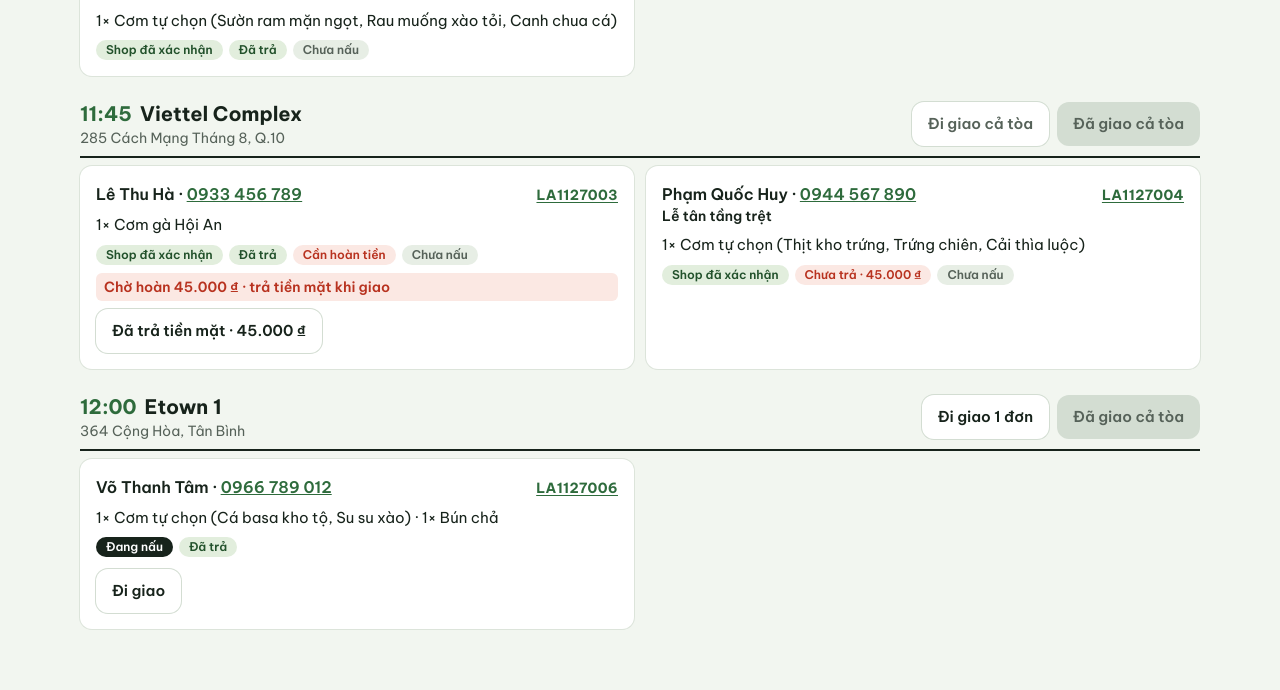
Test: refunds: shown, reminded, cash or transfer (CN-53, CN-54) › AC41, AC44, CN-53, CN-54: the delivery list shows the cash to give back; "Cash given back" records it
The width and height of the screenshot is (1280, 690).
(page scrolled)
Expected: the text "Chờ hoàn 45.000 ₫ · trả tiền mặt khi giao" is shown, x1=96 y1=273 x2=618 y2=301
Click the button "Đã trả tiền mặt · 45.000 ₫".
click(209, 331)  # box x1=96 y1=309 x2=322 y2=353
(page scrolled)
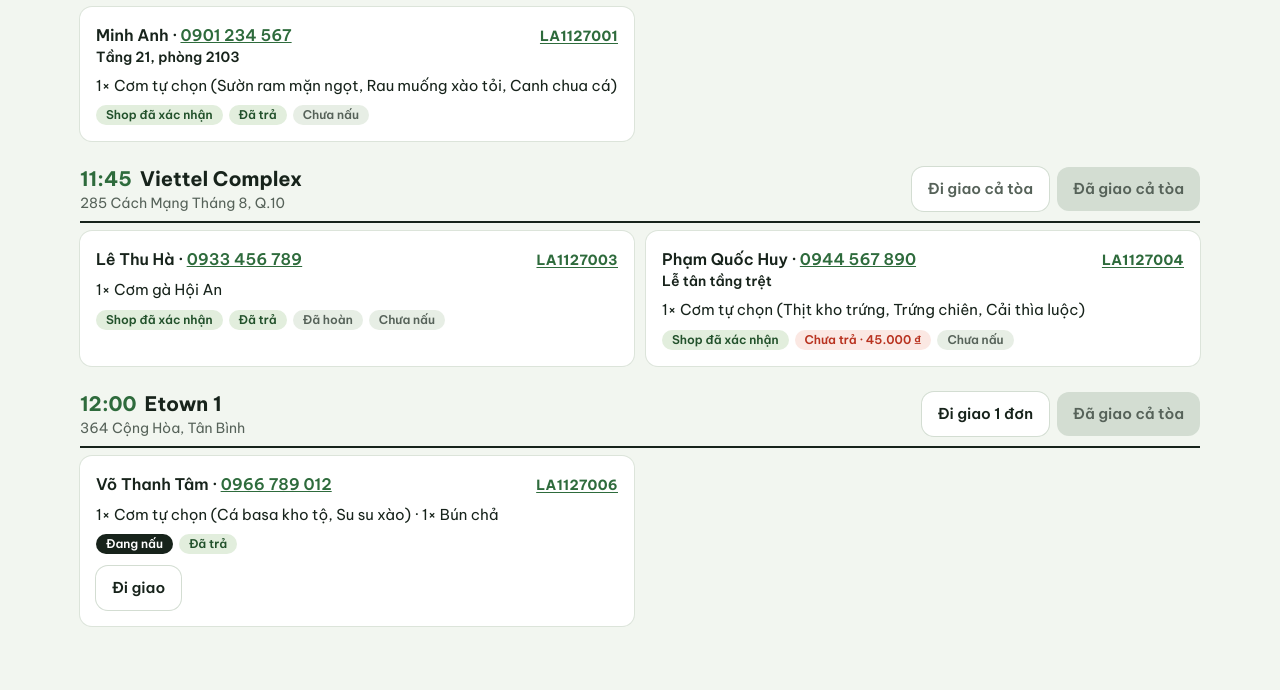
Now the text "Chờ hoàn 45.000" is gone
